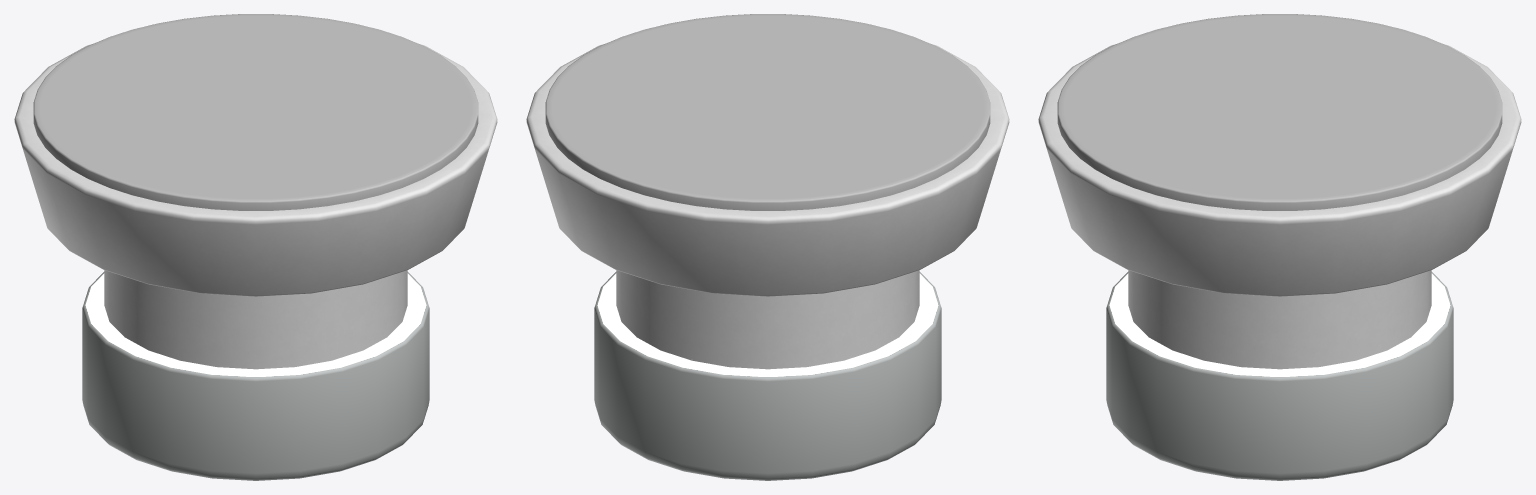
Rendered from CoffeeTable02.FBX.
3 renders of one model, left to right at view 1: azimuth 30°, elevation 25°; view 2: azimuth 150°, elevation 25°; view 3: azimuth 270°, elevation 25°, orthographic.
Parts seen in each view (by area): view 1: CoffeeTable02; view 2: CoffeeTable02; view 3: CoffeeTable02.
Boxes of the visible parts, left/top/right/bottom form: CoffeeTable02: left=14, top=14, right=497, bottom=480; CoffeeTable02: left=526, top=14, right=1009, bottom=480; CoffeeTable02: left=1038, top=14, right=1521, bottom=480.
Size of what is drawn, in the model's own units: 0.8661 by 0.6 by 0.8661.
